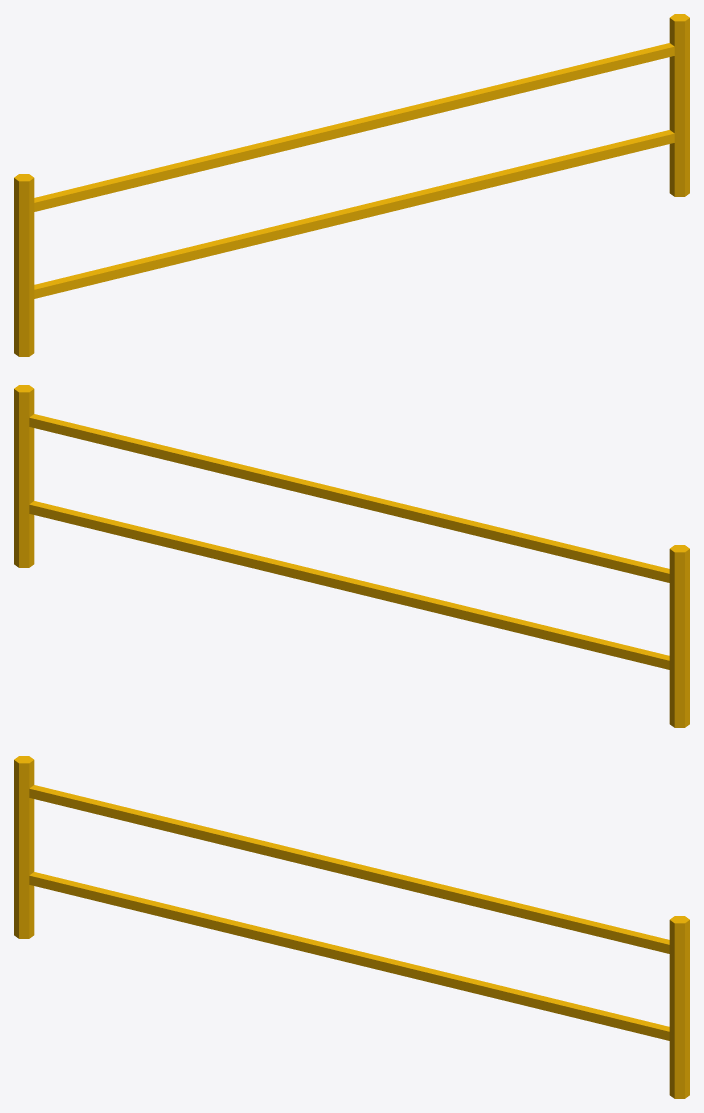
The model's file is Scaffold_Rails_1_Yellow_01.FBX.
3 renders of one model, top to bottom at view 1: azimuth 30°, elevation 25°; view 2: azimuth 150°, elevation 25°; view 3: azimuth 330°, elevation 25°, orthographic.
Visible parts, largest first — view 1: Scaffold_Rails_1_Yellow_01; view 2: Scaffold_Rails_1_Yellow_01; view 3: Scaffold_Rails_1_Yellow_01.
Part boxes in pixels (left/top/right/bottom): Scaffold_Rails_1_Yellow_01: left=14, top=14, right=689, bottom=356; Scaffold_Rails_1_Yellow_01: left=14, top=385, right=689, bottom=727; Scaffold_Rails_1_Yellow_01: left=14, top=756, right=689, bottom=1098.
Bounding box in the file's own units: 7260 × 1815 × 191.
